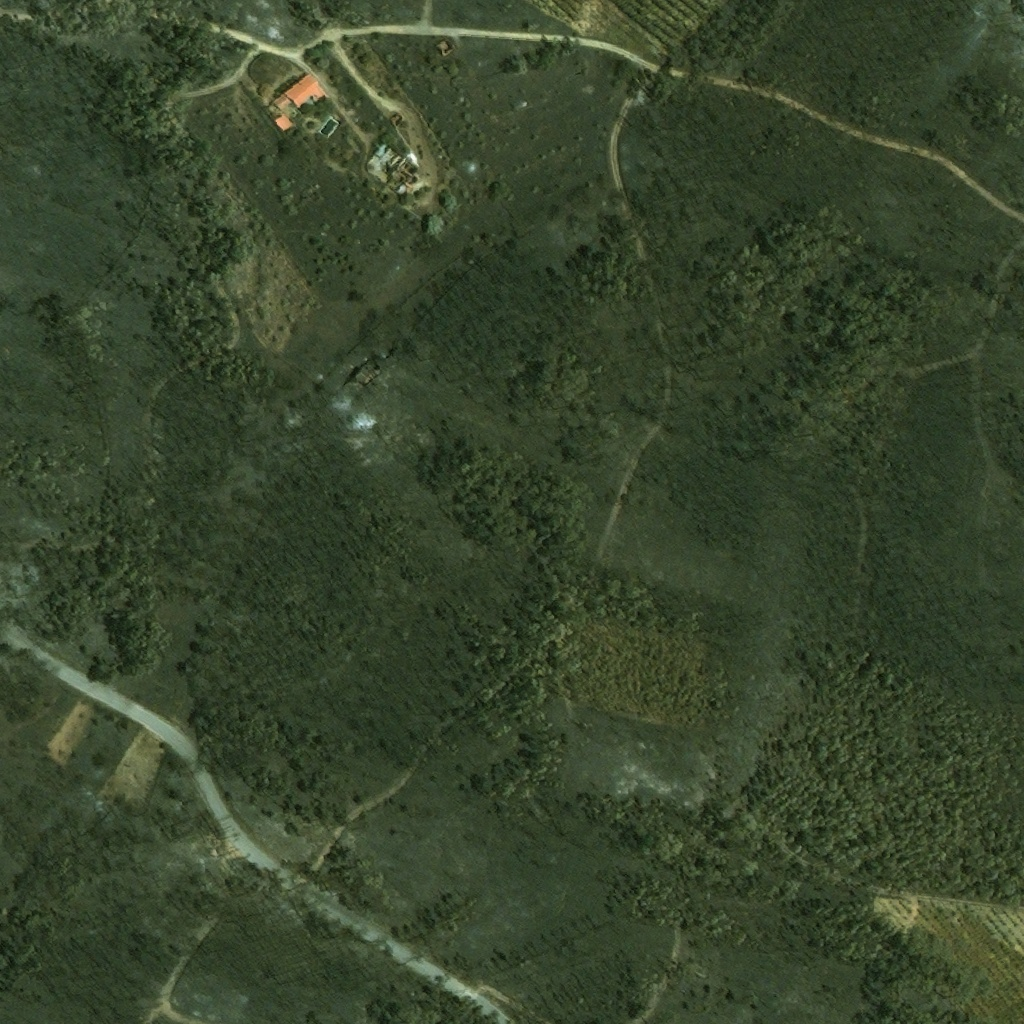0 no-damage: (272, 73, 319, 111), (274, 115, 293, 132)
3 destroyed: (374, 141, 420, 196), (436, 38, 454, 56), (354, 368, 370, 384), (390, 113, 405, 128)
